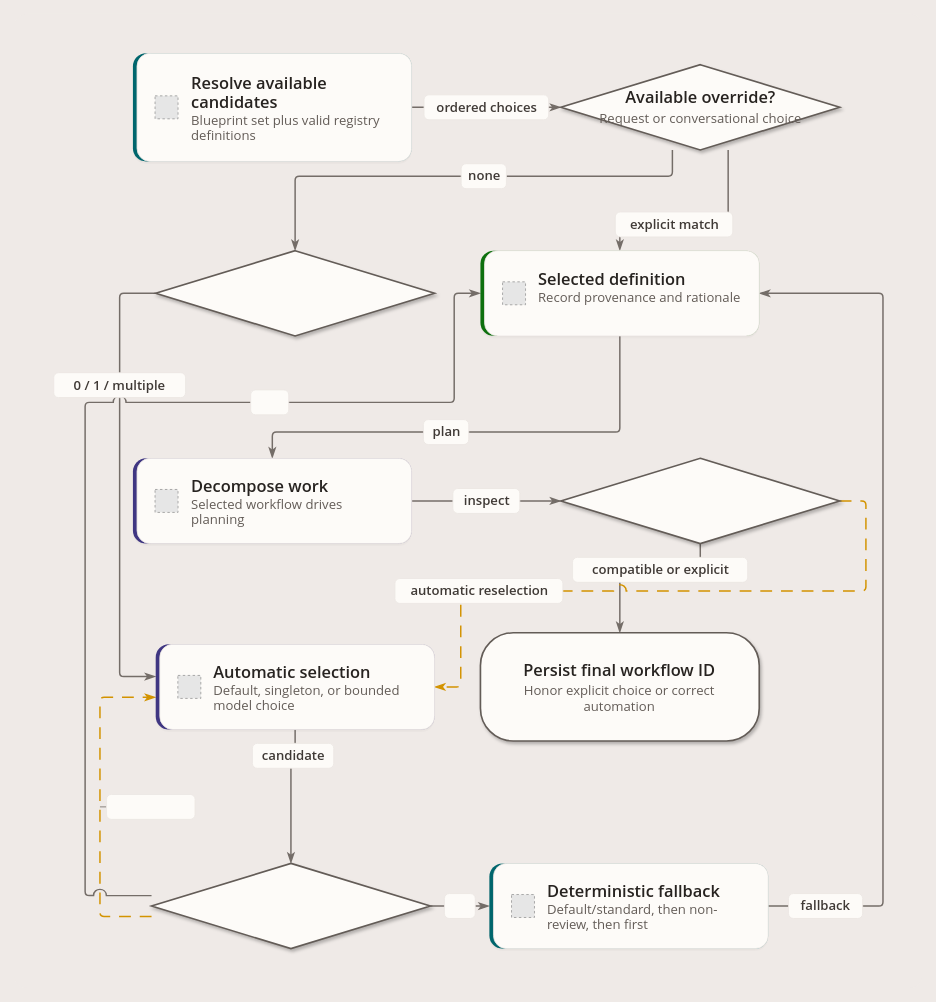
This 936x1002 diagram has some shape labels left out. Grey dashed boxes stand in for pictures. The shapes that lost their labels are listed below. From the top down, each one's centre as x and y in pixels, then its label:
(x=295, y=294): Candidate count? Zero, one, or multiple
(x=269, y=402): yes
(x=700, y=502): Code work has Build and Test? Check actual decomposition
(x=150, y=806): retry once
(x=291, y=907): Usable candidate? Never accept an invented workflow
(x=459, y=905): no
